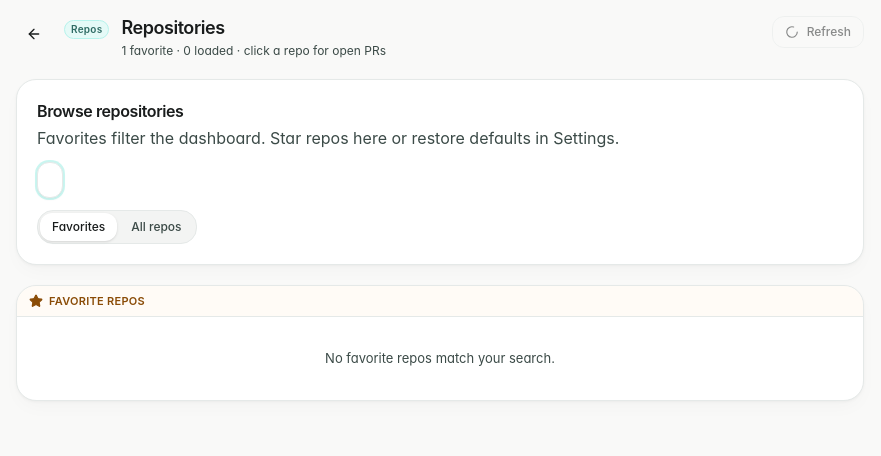
Test: ReposPage › shows loading and empty search states on all repos tab
Click the tab "All repos" at (156, 227), box [119,213,194,241]
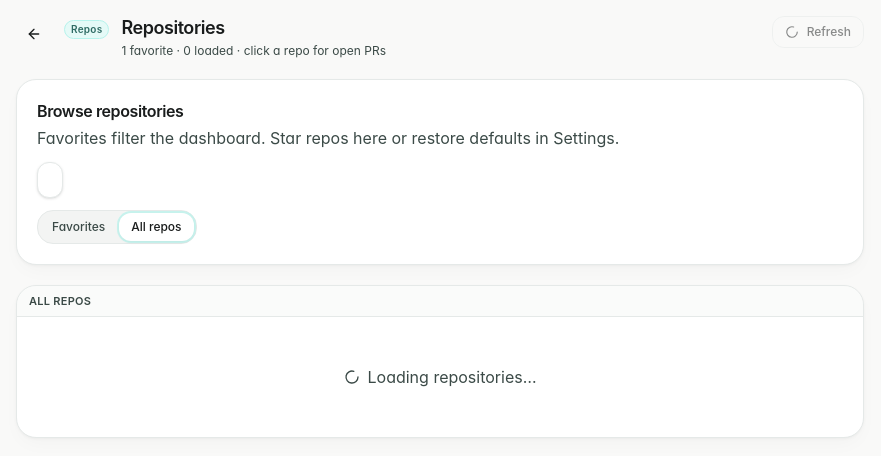
Check: the text "Loading repositories…" is shown, box [344,367,536,387]
